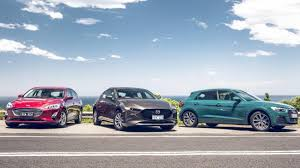car: (176, 85, 300, 145), (88, 82, 181, 147), (1, 82, 88, 134)
